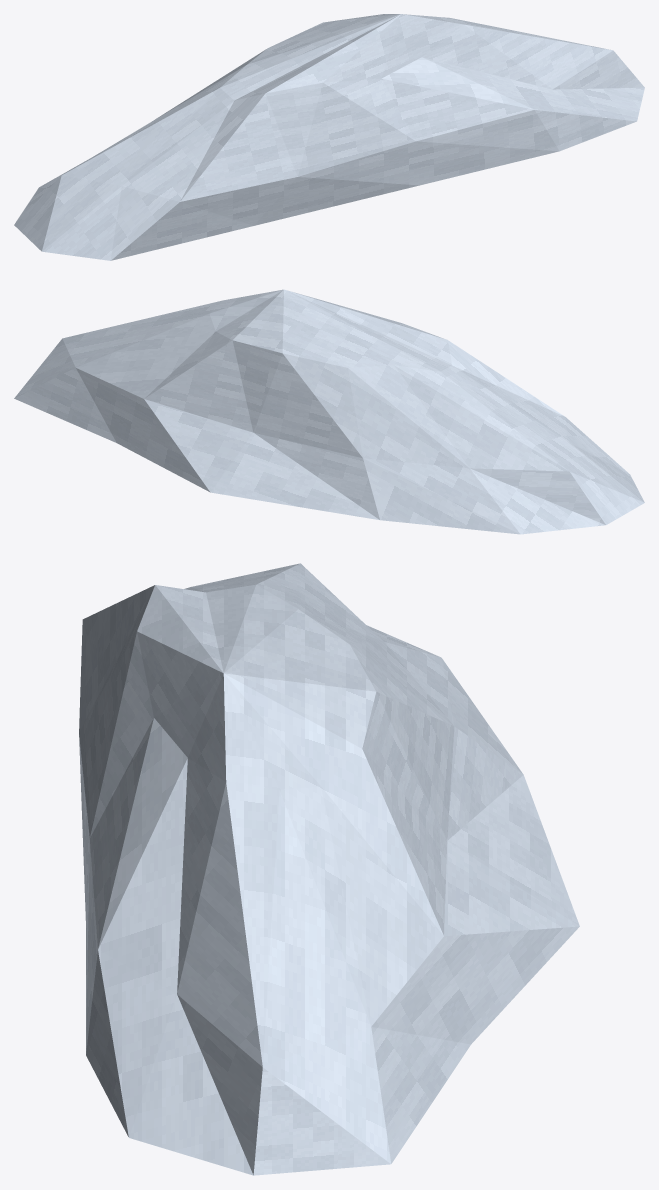
The model's file is drift_wall.glb.
The picture shows the model from 3 angles, top to bottom: view 1: azimuth 30°, elevation 25°; view 2: azimuth 150°, elevation 25°; view 3: azimuth 270°, elevation 25°; orthographic projection. The views are drawn at different scales.
Parts seen in each view (by area): view 1: drift_wall; view 2: drift_wall; view 3: drift_wall.
Boxes of the visible parts, x1=… form: drift_wall: x1=14, y1=14, x2=644, y2=260; drift_wall: x1=14, y1=289, x2=644, y2=534; drift_wall: x1=79, y1=563, x2=579, y2=1175.
Bounding box in the file's own units: 3 × 0.65 × 1.1.
1 material, 1 textured.
